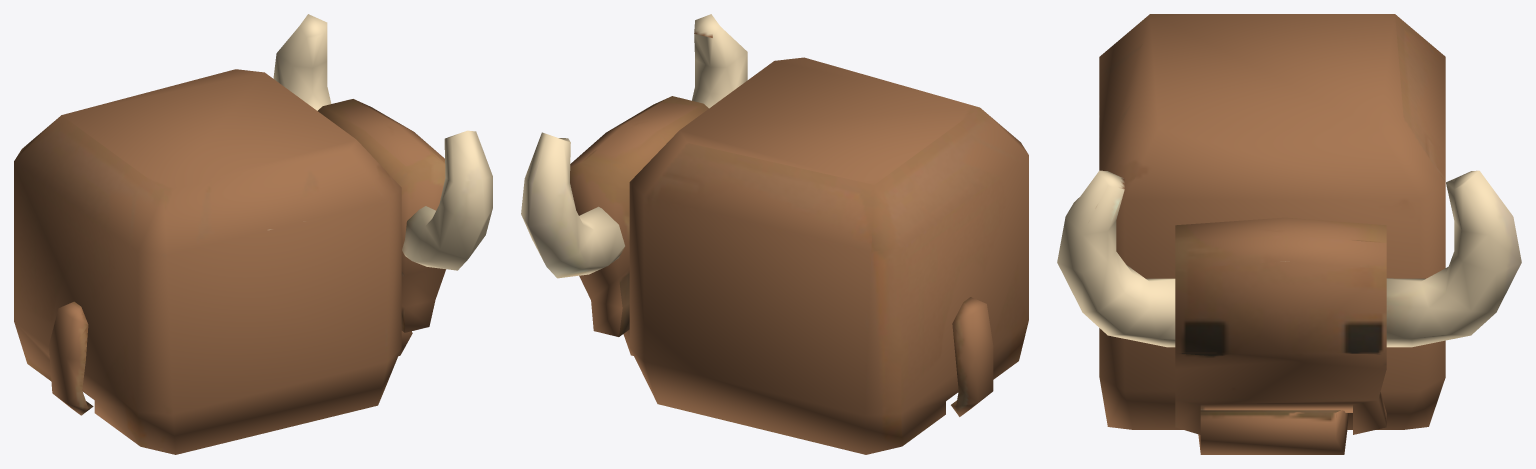
Rendered from cow.glb.
The picture shows the model from 3 angles, left to right: view 1: azimuth 30°, elevation 25°; view 2: azimuth 150°, elevation 25°; view 3: azimuth 270°, elevation 25°; orthographic projection. The views are drawn at different scales.
Parts seen in each view (by area): view 1: 3.008, 4.008, 2.008, 1.008, 5.005; view 2: 3.008, 4.008, 1.008, 5.005, 2.008; view 3: 3.008, 4.008, 1.008, 2.008, 6.007.
Part boxes in pixels (x1,y1,x2,y2): 3.008: (14,69,401,454); 4.008: (318,99,445,332); 2.008: (402,130,492,270); 1.008: (273,14,331,110); 5.005: (49,301,93,415); 3.008: (629,57,1028,454); 4.008: (570,96,708,336); 1.008: (521,132,624,278); 5.005: (951,297,993,416); 2.008: (692,14,747,108); 3.008: (1099,14,1445,429); 4.008: (1175,217,1386,434); 1.008: (1386,170,1521,347); 2.008: (1057,170,1175,347); 6.007: (1198,410,1349,454).
Size of the model in its own units: 0.1155 by 0.0783 by 0.1076.
Materials: 1 (1 with a texture image).
